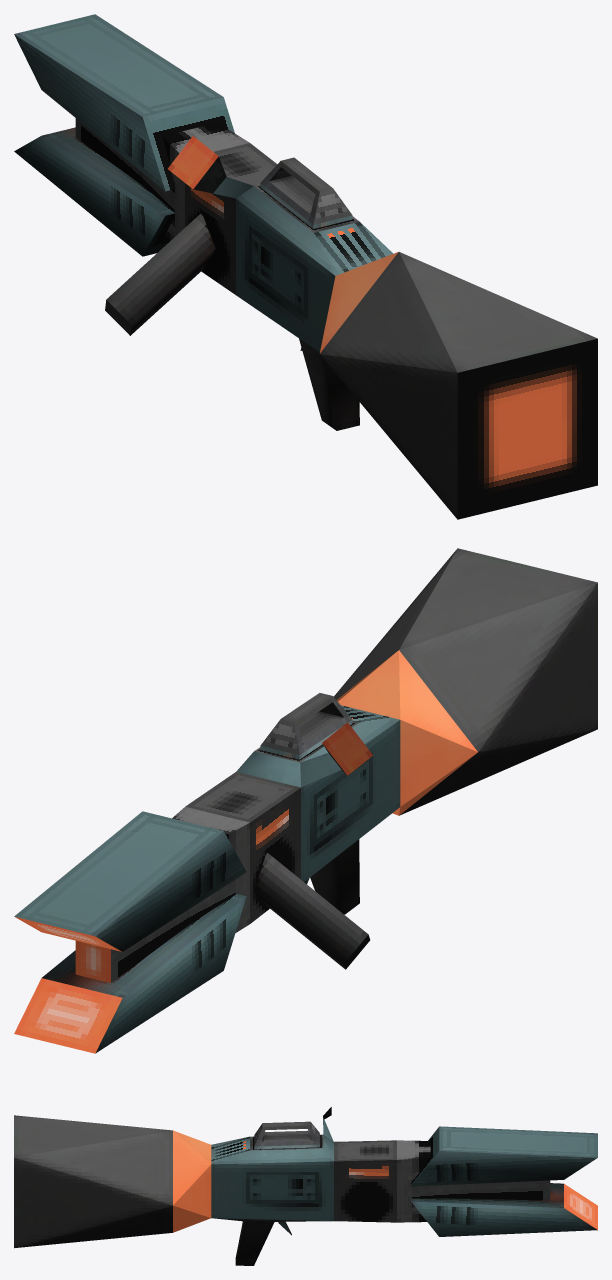
3 views of the same model, one above another, from view 1: azimuth 30°, elevation 25°; view 2: azimuth 150°, elevation 25°; view 3: azimuth 270°, elevation 25° (orthographic). The views are drawn at different scales.
Parts seen in each view (by area): view 1: rpg ammo.001; view 2: rpg ammo.001; view 3: rpg ammo.001.
Part boxes in pixels (left/top/right/bottom): rpg ammo.001: left=14, top=14, right=597, bottom=519; rpg ammo.001: left=14, top=548, right=597, bottom=1053; rpg ammo.001: left=14, top=1107, right=597, bottom=1265.
Size of the model in its own units: 0.5064 by 0.5855 by 1.97.
Materials: 1 (1 with a texture image).
